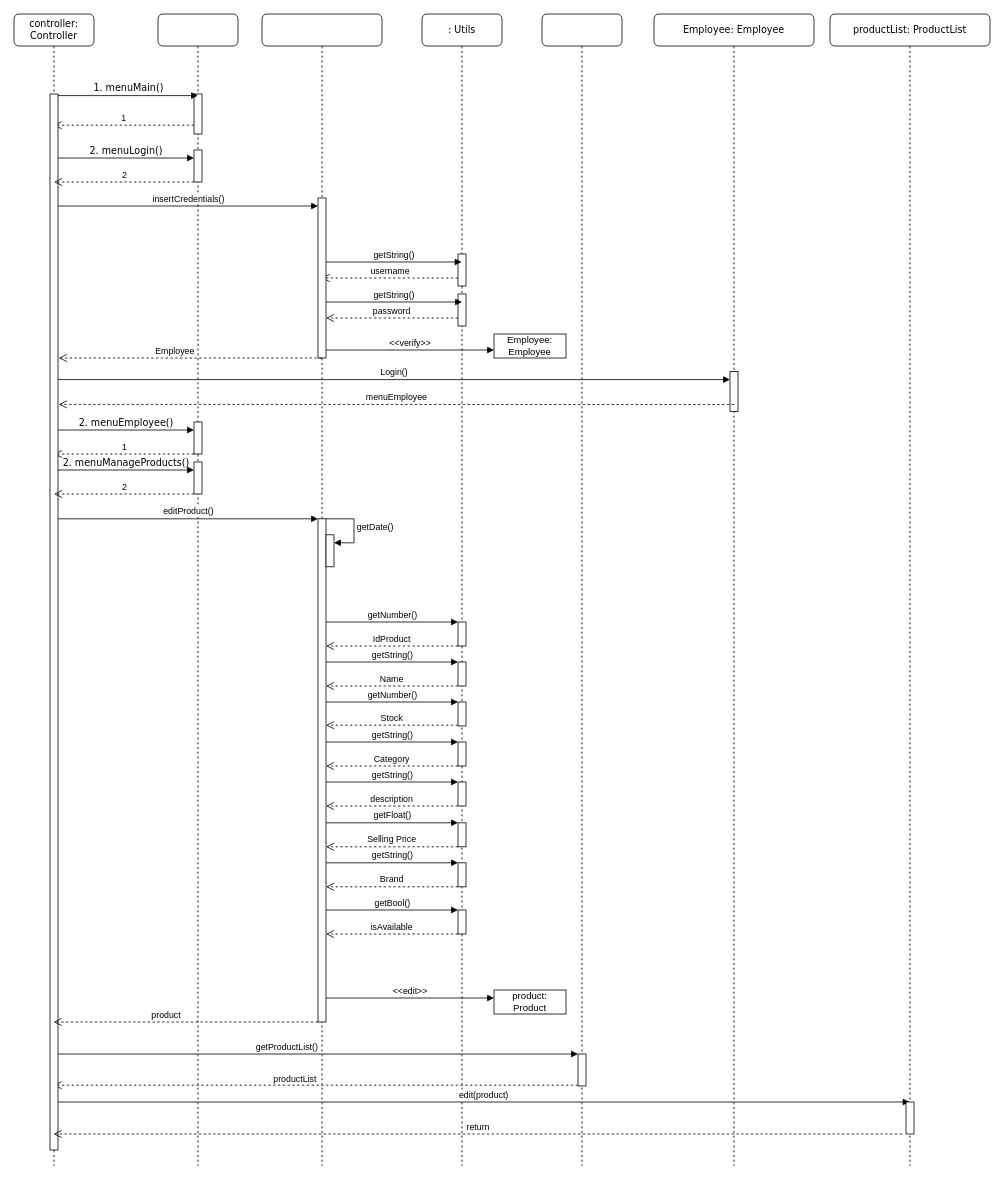
This 1004x1180 diagram has some shape labels left out. The shapes that lost their labels are listed below. From the top down, each one's box as (x1, y1, x2, y2) in pixels, then its label:
(157, 13, 238, 1166): view: View
(261, 13, 382, 1166): viewLogin: ViewLogin
(541, 13, 622, 1166): model: CompoStore
